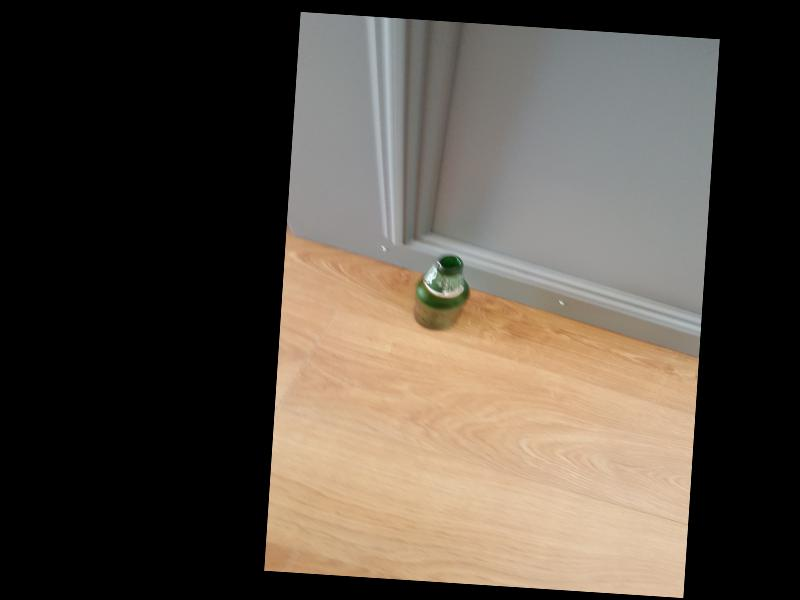Beer: (413, 253, 471, 331)
